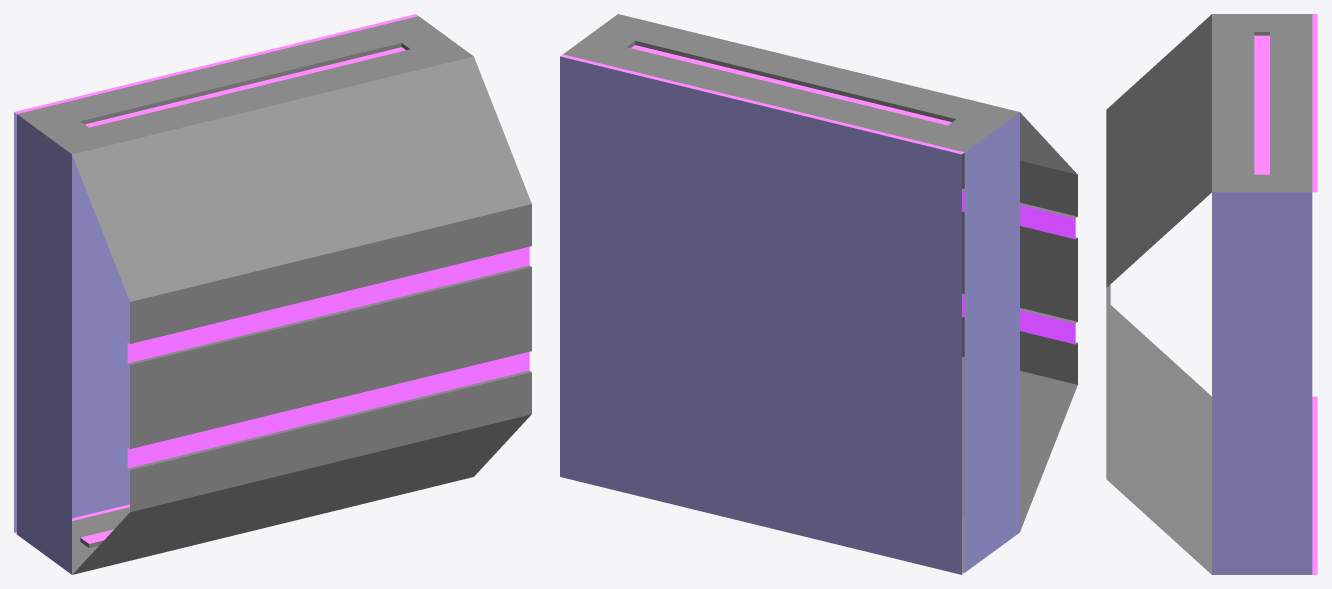
File: PlatformSide.FBX
3 renders of one model, left to right at view 1: azimuth 30°, elevation 25°; view 2: azimuth 150°, elevation 25°; view 3: azimuth 270°, elevation 25°, orthographic. The views are drawn at different scales.
Visible parts, largest first — view 1: PlatformSide; view 2: PlatformSide; view 3: PlatformSide.
Part boxes in pixels (x1,y1,x2,y2): PlatformSide: (14,14,531,574); PlatformSide: (560,14,1077,574); PlatformSide: (1106,14,1317,574).
Size of the model in its own units: 100 by 50 by 100.
